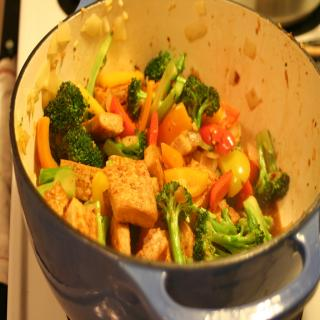Broccoli: (194, 195, 272, 262), (155, 181, 193, 263), (255, 131, 289, 201), (178, 76, 220, 130), (45, 80, 89, 131), (63, 129, 104, 167), (103, 129, 149, 158), (127, 79, 156, 116), (144, 50, 174, 81)
